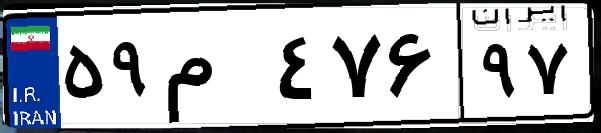4: (270, 28, 330, 110)
5: (57, 26, 110, 100)
6: (385, 28, 445, 110)
7: (330, 28, 385, 110), (525, 38, 570, 115)
9: (475, 38, 525, 113), (110, 28, 158, 98)
م: (158, 20, 270, 120)
